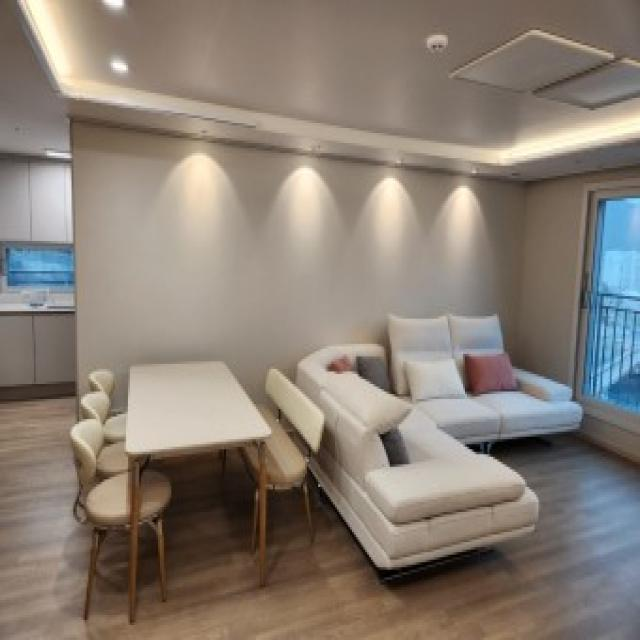Chair: (62, 417, 174, 618)
Sofa: (298, 301, 585, 577)
Table: (127, 354, 269, 606)
